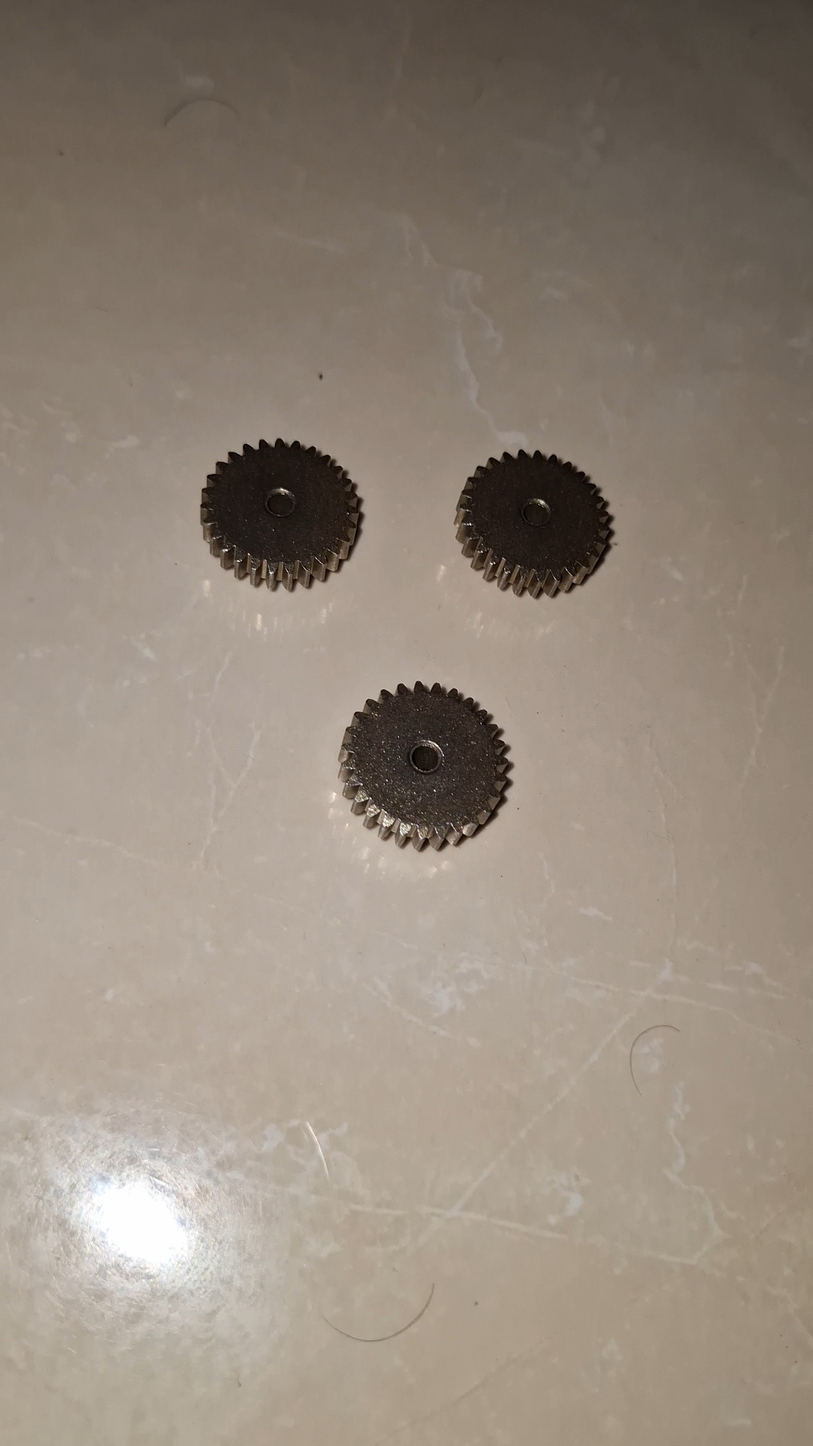spur gear: (340, 682, 507, 849), (201, 439, 357, 590), (456, 451, 609, 596)
